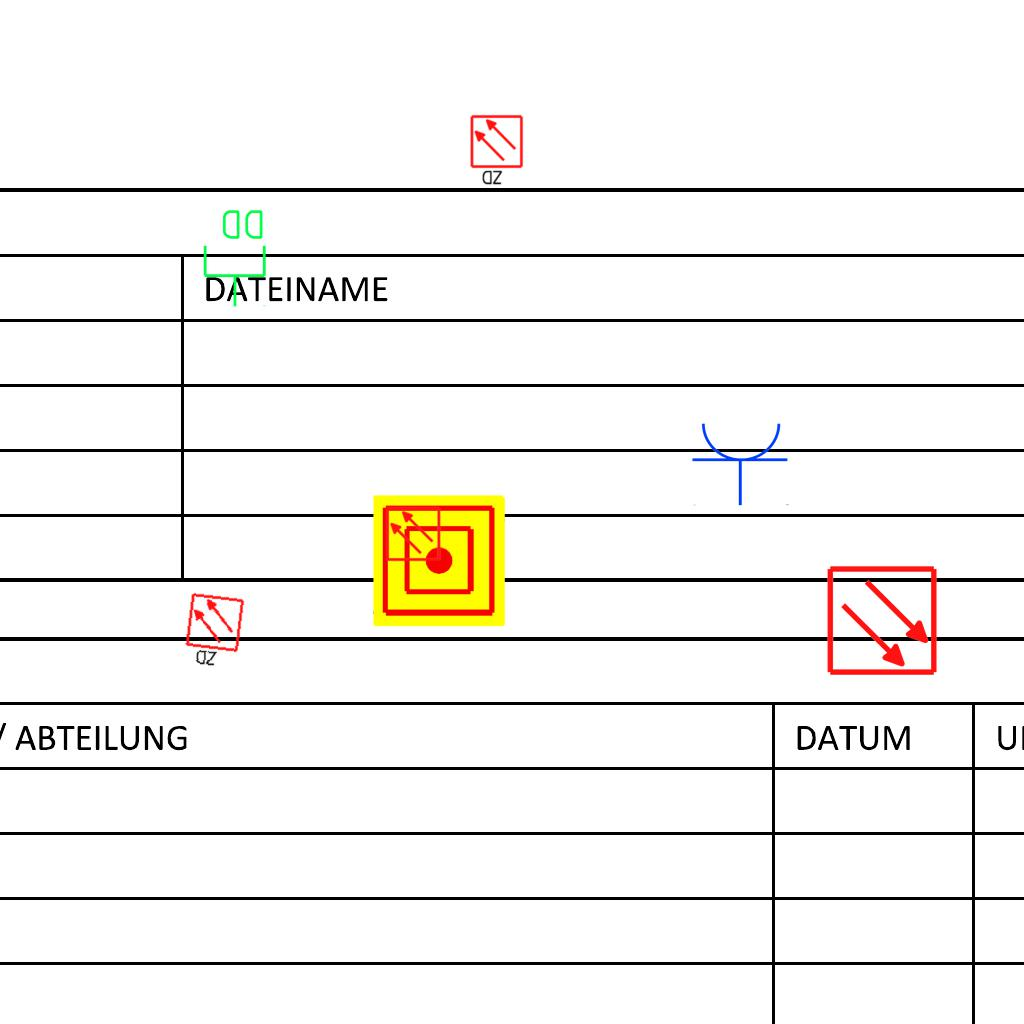Datenanschluss_zweifach: (201, 206, 270, 309)
NAM-Nichtautomatischer_Melder: (373, 495, 505, 627)
RMO_Rauchmelder_optischer: (826, 564, 939, 677), (385, 506, 441, 562)
Schukosteckdose_einfach: (691, 419, 791, 506)
ZD_Melder_in_Zwischendecke_mit_Revisionsoeffnung_mind_40_x_40_cm: (181, 591, 248, 673), (469, 114, 526, 188)
